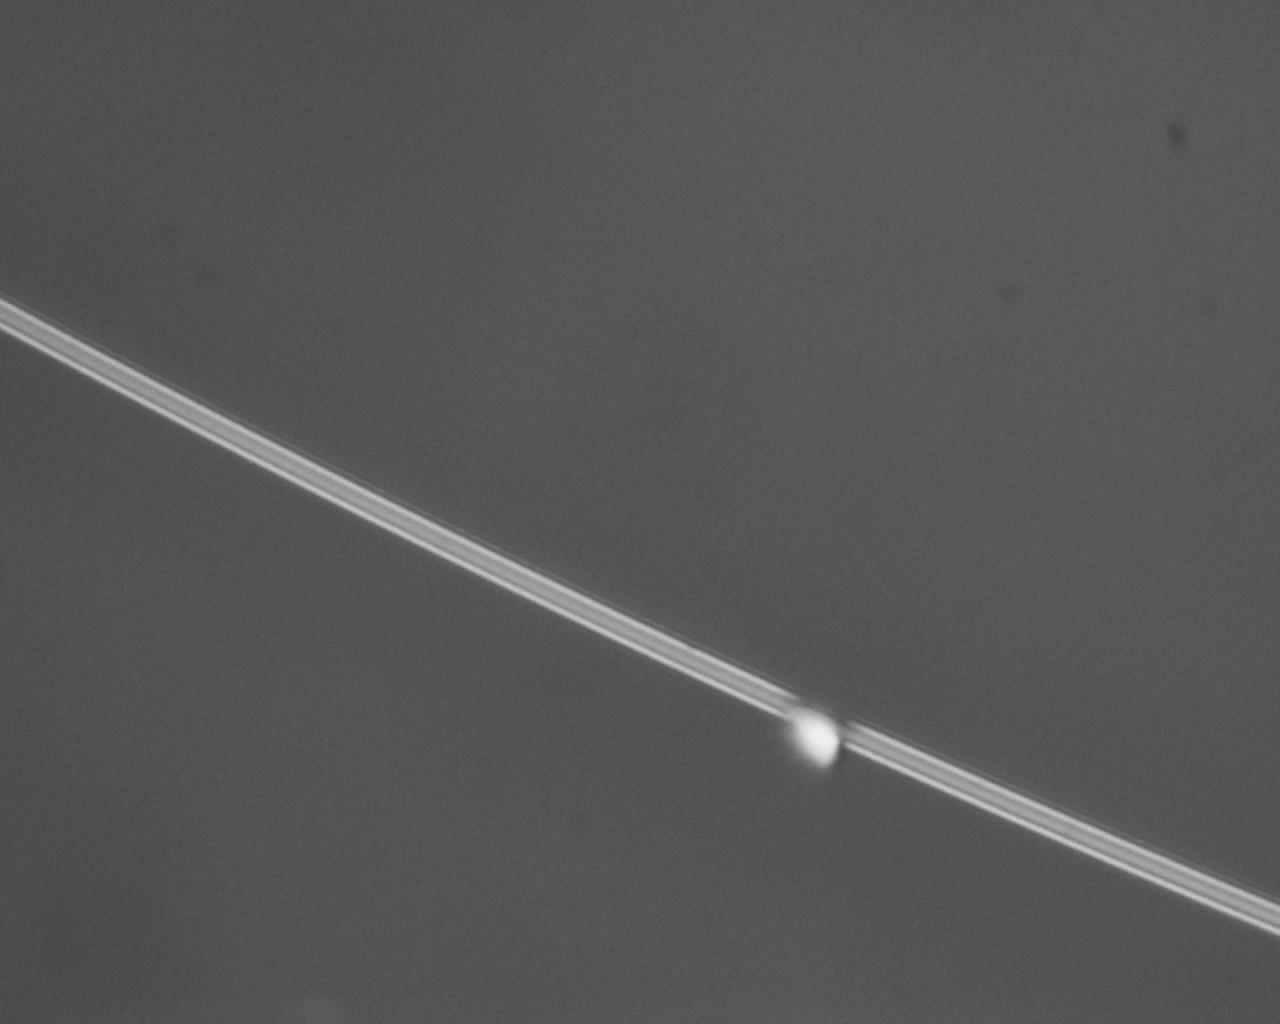fiber: (639, 318, 1280, 522), (1067, 522, 1280, 1024), (0, 313, 639, 366)
